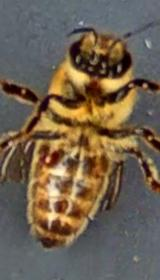varroa_mite: (32, 142, 64, 172)
